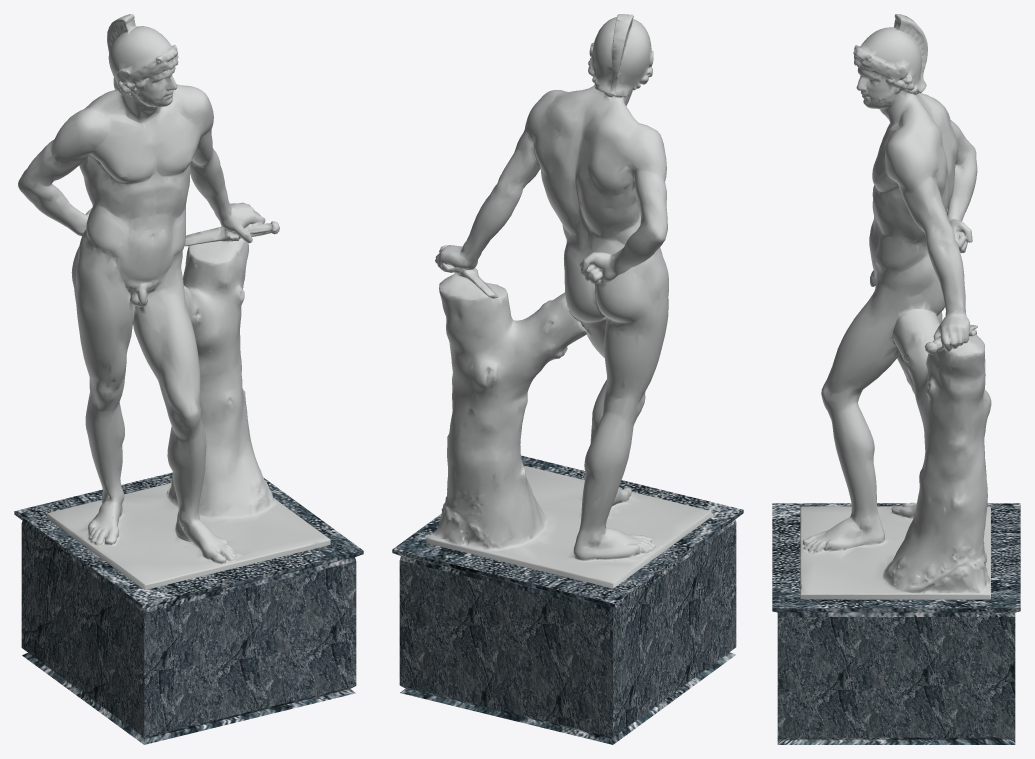
The model's file is Mars.fbx.
3 views of the same model, side by side, from view 1: azimuth 30°, elevation 25°; view 2: azimuth 150°, elevation 25°; view 3: azimuth 270°, elevation 25° (orthographic). The views are drawn at different scales.
Visible parts, largest first — view 1: Mars_LOD0; view 2: Mars_LOD0; view 3: Mars_LOD0.
Part boxes in pixels (x1=…): Mars_LOD0: x1=14, y1=14, x2=363, y2=744; Mars_LOD0: x1=392, y1=14, x2=743, y2=744; Mars_LOD0: x1=772, y1=14, x2=1020, y2=744.
Size of what is drawn, in the model's own units: 230 by 605 by 209.
